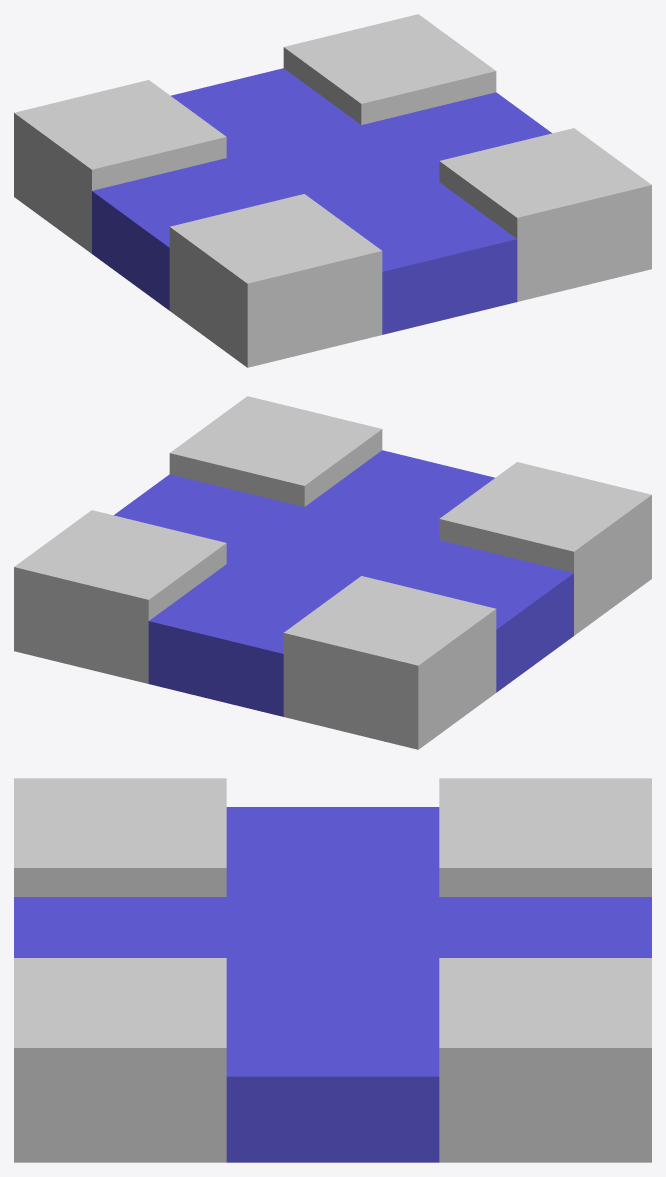
Rendered from RiverXCross.fbx.
3 renders of one model, top to bottom at view 1: azimuth 30°, elevation 25°; view 2: azimuth 150°, elevation 25°; view 3: azimuth 270°, elevation 25°, orthographic. The views are drawn at different scales.
Visible parts, largest first — view 1: RiverXCross; view 2: RiverXCross; view 3: RiverXCross.
Part boxes in pixels (box(x1,y1,x2,y2)): RiverXCross: box(14, 14, 651, 367); RiverXCross: box(14, 396, 651, 749); RiverXCross: box(14, 778, 651, 1162).
Bounding box in the file's own units: 200 × 200 × 39.76.
